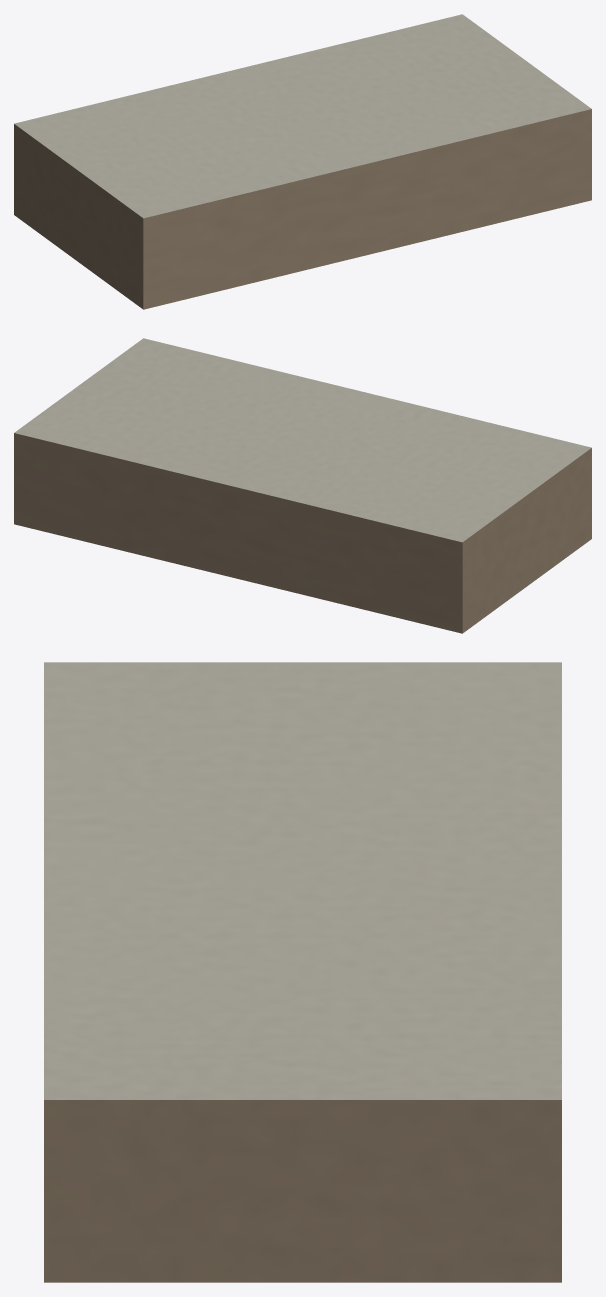
File: set_roof_outside_a06.fbx
3 views of the same model, one above another, from view 1: azimuth 30°, elevation 25°; view 2: azimuth 150°, elevation 25°; view 3: azimuth 270°, elevation 25° (orthographic). The views are drawn at different scales.
Parts seen in each view (by area): view 1: set_roof_outside_a06; view 2: set_roof_outside_a06; view 3: set_roof_outside_a06.
Part boxes in pixels (x1,y1,x2,y2): set_roof_outside_a06: [14, 14, 591, 309]; set_roof_outside_a06: [14, 338, 591, 633]; set_roof_outside_a06: [44, 662, 561, 1282].
Size of the model in its own units: 200 by 38.91 by 100.
